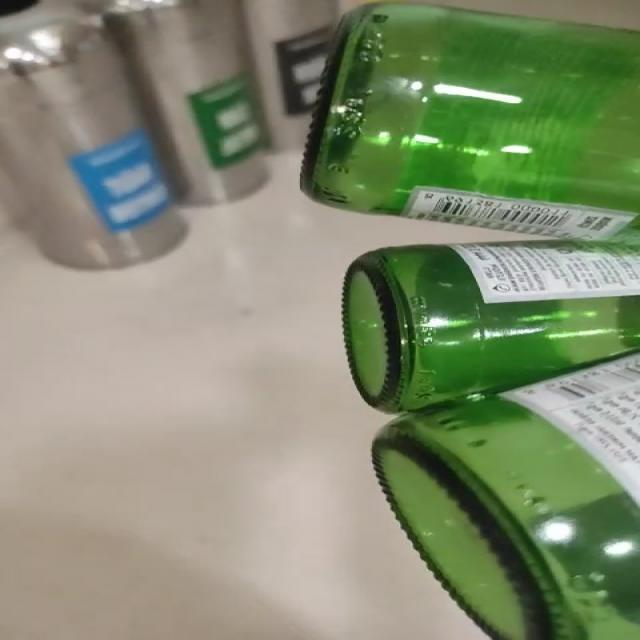Glass: (303, 3, 639, 640)
